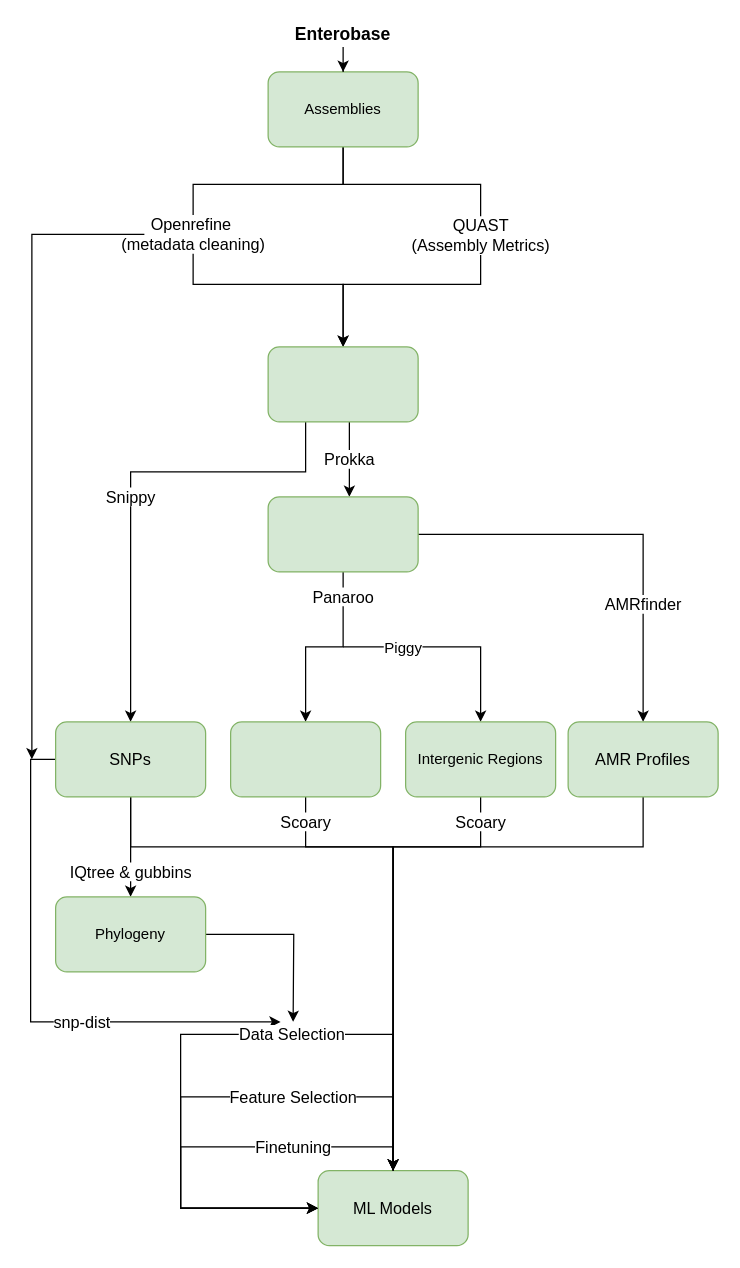
Image size: 740x1268. Some labels were removed from this diagram. The centre of each missing label's shape, as x and y in pixels:
"Genomic Annotations" belongs at (342,534).
"High-Quality Assemblies" belongs at (342,384).
"Protein Variants" belongs at (305,759).
